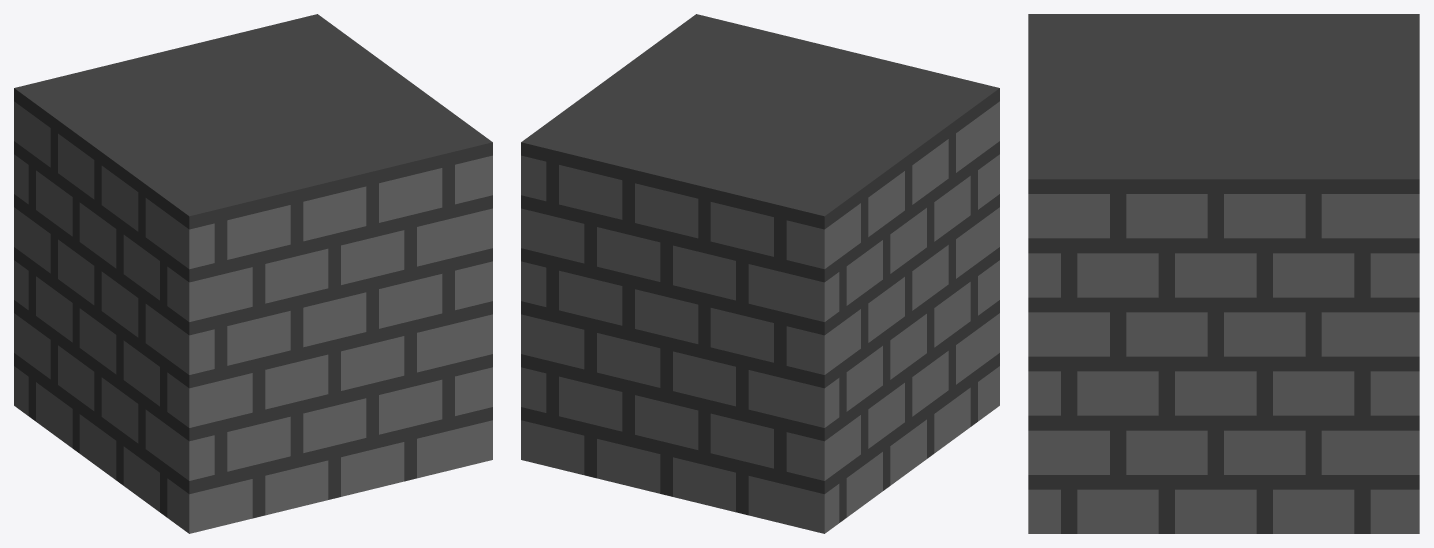
Rendered from block24x24x24.obj.
3 renders of one model, left to right at view 1: azimuth 30°, elevation 25°; view 2: azimuth 150°, elevation 25°; view 3: azimuth 270°, elevation 25°, orthographic. The views are drawn at different scales.
Visible parts, largest first — view 1: block24x24x24; view 2: block24x24x24; view 3: block24x24x24.
Boxes of the visible parts, x1,y1,x2,y2 form: block24x24x24: [14, 14, 492, 533]; block24x24x24: [521, 14, 999, 533]; block24x24x24: [1028, 14, 1419, 533].
Bounding box in the file's own units: 24 × 24 × 24.
Materials: 1 (1 with a texture image).
